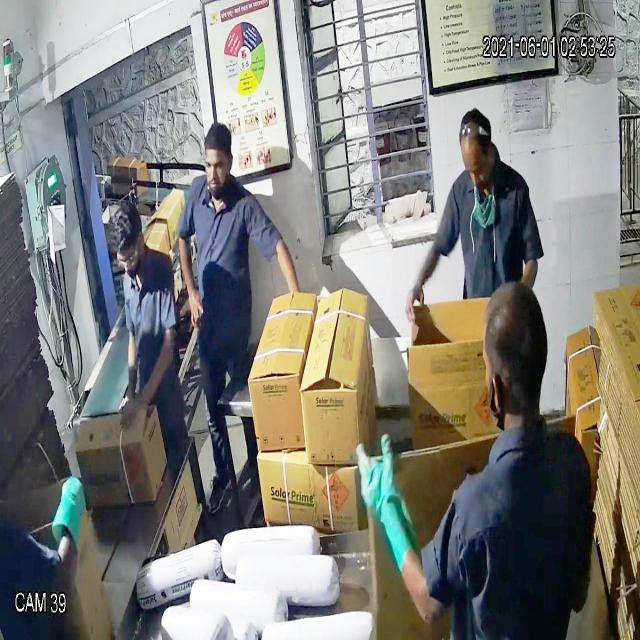glasses: (113, 241, 145, 277)
no-glass: (200, 148, 234, 182)
